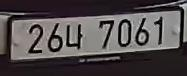0: (115, 17, 134, 48)
1: (151, 15, 169, 47)
2: (25, 23, 45, 56)
6: (46, 22, 65, 54), (134, 16, 151, 47)
7: (97, 18, 115, 50)
나: (65, 22, 84, 50)
